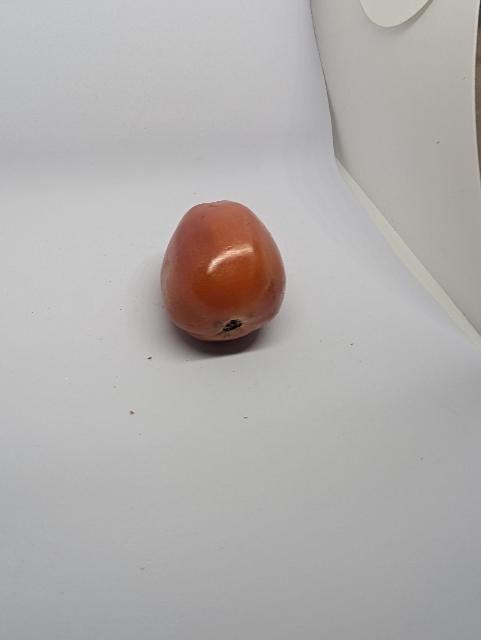red: (156, 194, 294, 349)
